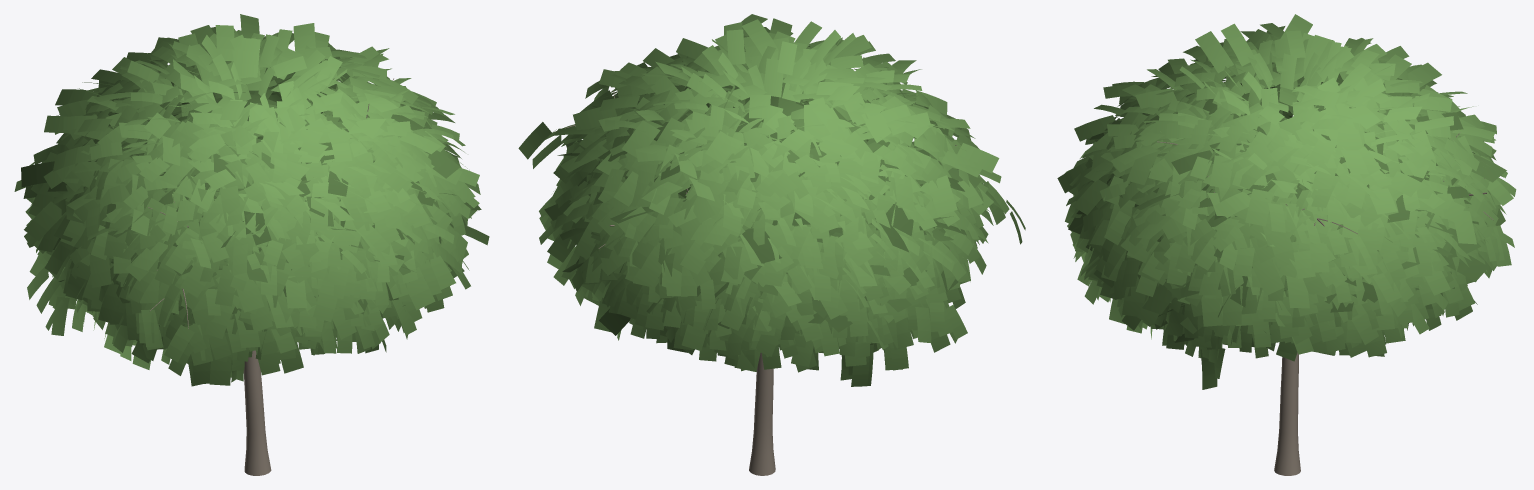
Rendered from cay_3.glb.
3 renders of one model, left to right at view 1: azimuth 30°, elevation 25°; view 2: azimuth 150°, elevation 25°; view 3: azimuth 270°, elevation 25°, orthographic.
Visible parts, largest first — view 1: E:\gialaptrano\models\cay\cay_3; view 2: E:\gialaptrano\models\cay\cay_3; view 3: E:\gialaptrano\models\cay\cay_3.
Part boxes in pixels (x1,y1,x2,y2): E:\gialaptrano\models\cay\cay_3: (14,14,489,475); E:\gialaptrano\models\cay\cay_3: (518,14,1025,475); E:\gialaptrano\models\cay\cay_3: (1057,14,1516,475).
Bounding box in the file's own units: 8.81 × 8.71 × 8.59.
